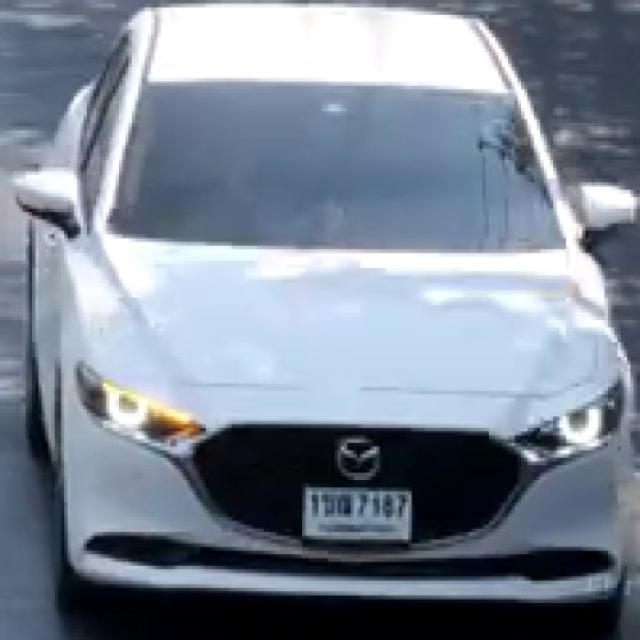plate: (302, 484, 413, 544)
